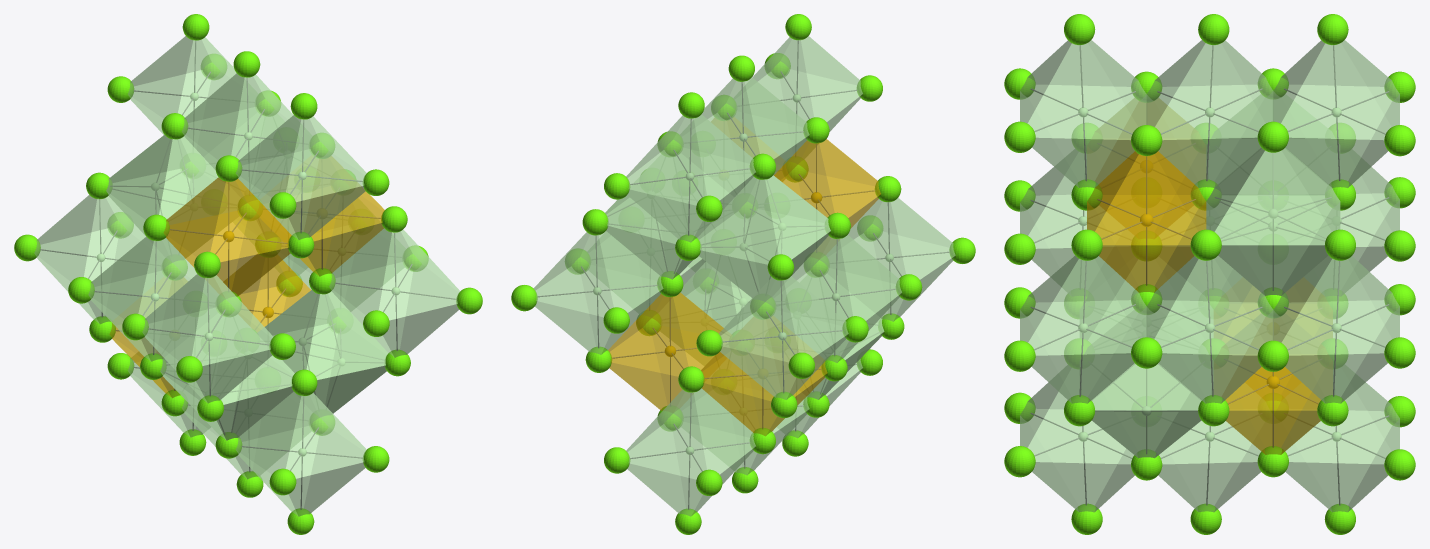
The model's file is Li2FeCl4.fbx.
3 renders of one model, left to right at view 1: azimuth 30°, elevation 25°; view 2: azimuth 150°, elevation 25°; view 3: azimuth 270°, elevation 25°, orthographic. The views are drawn at different scales.
Visible parts, largest first — view 1: Shape_IndexedFaceSet.146, Shape_IndexedFaceSet.130, Shape_IndexedFaceSet.026, Shape_IndexedFaceSet.050, Shape_IndexedFaceSet.075, Shape_IndexedFaceSet.067, Shape_IndexedFaceSet.162, Shape_IndexedFaceSet.133, Shape_IndexedFaceSet.149, Shape_IndexedFaceSet.068, Shape_IndexedFaceSet.076, Shape_IndexedFaceSet.020 (+94 smaller); view 2: Shape_IndexedFaceSet.081, Shape_IndexedFaceSet.089, Shape_IndexedFaceSet.017, Shape_IndexedFaceSet.057, Shape_IndexedFaceSet.153, Shape_IndexedFaceSet.137, Shape_IndexedFaceSet.169, Shape_IndexedFaceSet.086, Shape_IndexedFaceSet.094, Shape_IndexedFaceSet.158, Shape_IndexedFaceSet.142, Shape_IndexedFaceSet.020 (+94 smaller); view 3: Shape_IndexedFaceSet, Shape_IndexedFaceSet.040, Shape_IndexedFaceSet.136, Shape_IndexedFaceSet.128, Shape_IndexedFaceSet.112, Shape_IndexedFaceSet.088, Shape_IndexedFaceSet.104, Shape_IndexedFaceSet.072, Shape_IndexedFaceSet.135, Shape_IndexedFaceSet.143, Shape_IndexedFaceSet.119, Shape_IndexedFaceSet.111 (+136 smaller).
Boxes of the visible parts, x1=… form: Shape_IndexedFaceSet.146: x1=192, y1=275, x2=273, y2=365; Shape_IndexedFaceSet.130: x1=379, y1=229, x2=459, y2=320; Shape_IndexedFaceSet.026: x1=306, y1=291, x2=388, y2=379; Shape_IndexedFaceSet.050: x1=307, y1=292, x2=387, y2=379; Shape_IndexedFaceSet.075: x1=286, y1=116, x2=366, y2=201; Shape_IndexedFaceSet.067: x1=286, y1=393, x2=366, y2=478; Shape_IndexedFaceSet.162: x1=210, y1=179, x2=291, y2=261; Shape_IndexedFaceSet.133: x1=332, y1=262, x2=412, y2=352; Shape_IndexedFaceSet.149: x1=145, y1=307, x2=225, y2=397; Shape_IndexedFaceSet.068: x1=239, y1=426, x2=318, y2=511; Shape_IndexedFaceSet.076: x1=238, y1=149, x2=318, y2=234; Shape_IndexedFaceSet.020: x1=106, y1=135, x2=172, y2=219; Shape_IndexedFaceSet.081: x1=626, y1=389, x2=706, y2=479; Shape_IndexedFaceSet.089: x1=626, y1=115, x2=706, y2=205; Shape_IndexedFaceSet.017: x1=697, y1=177, x2=778, y2=264; Shape_IndexedFaceSet.057: x1=698, y1=177, x2=777, y2=264; Shape_IndexedFaceSet.153: x1=719, y1=277, x2=798, y2=362; Shape_IndexedFaceSet.137: x1=533, y1=232, x2=613, y2=317; Shape_IndexedFaceSet.169: x1=608, y1=294, x2=688, y2=376; Shape_IndexedFaceSet.086: x1=673, y1=421, x2=752, y2=511; Shape_IndexedFaceSet.094: x1=673, y1=147, x2=752, y2=237; Shape_IndexedFaceSet.158: x1=766, y1=310, x2=845, y2=394; Shape_IndexedFaceSet.142: x1=581, y1=265, x2=660, y2=349; Shape_IndexedFaceSet.020: x1=765, y1=175, x2=830, y2=259; Shape_IndexedFaceSet: x1=1215, y1=150, x2=1331, y2=245; Shape_IndexedFaceSet.040: x1=1215, y1=151, x2=1331, y2=244; Shape_IndexedFaceSet.136: x1=1281, y1=259, x2=1391, y2=355; Shape_IndexedFaceSet.128: x1=1028, y1=259, x2=1138, y2=355; Shape_IndexedFaceSet.112: x1=1154, y1=259, x2=1264, y2=355; Shape_IndexedFaceSet.088: x1=1281, y1=43, x2=1391, y2=140; Shape_IndexedFaceSet.104: x1=1155, y1=43, x2=1265, y2=139; Shape_IndexedFaceSet.072: x1=1027, y1=43, x2=1137, y2=140; Shape_IndexedFaceSet.135: x1=1028, y1=300, x2=1137, y2=396; Shape_IndexedFaceSet.143: x1=1281, y1=300, x2=1391, y2=396; Shape_IndexedFaceSet.119: x1=1155, y1=300, x2=1265, y2=396; Shape_IndexedFaceSet.111: x1=1155, y1=85, x2=1264, y2=180.
Size of the model in its own units: 1185 by 1651 by 1188.
